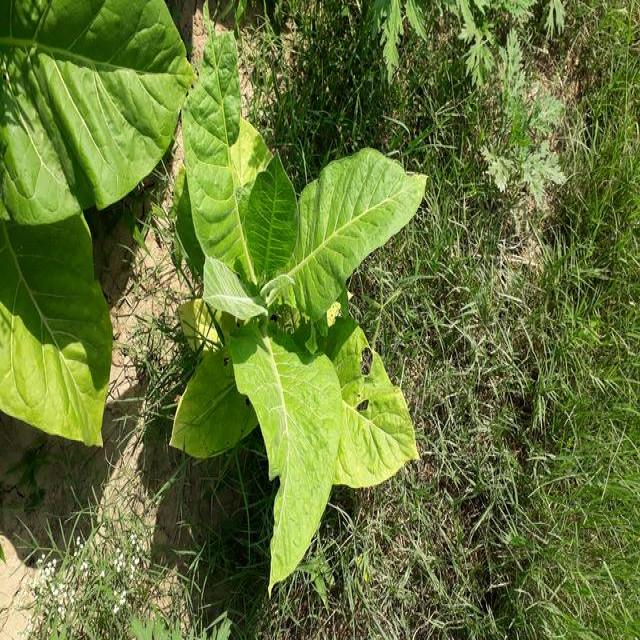crop: (170, 11, 424, 562), (0, 0, 180, 220), (1, 208, 118, 452)
